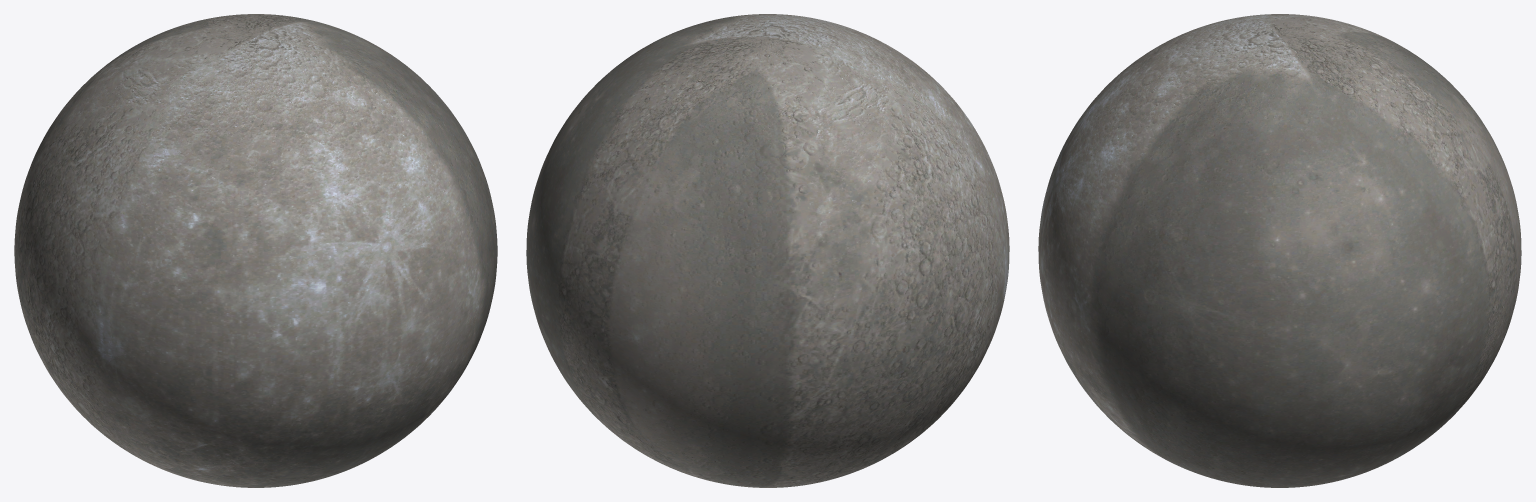
The model's file is mercury.gltf.
The picture shows the model from 3 angles, left to right: view 1: azimuth 30°, elevation 25°; view 2: azimuth 150°, elevation 25°; view 3: azimuth 270°, elevation 25°; orthographic projection.
Parts seen in each view (by area): view 1: node_id39; view 2: node_id39; view 3: node_id39.
Boxes of the visible parts, box(x1,y1,x2,y2) form: node_id39: box(14, 14, 497, 487); node_id39: box(526, 14, 1009, 487); node_id39: box(1038, 14, 1521, 487).
Bounding box in the file's own units: 0.3794 × 0.3707 × 0.3794.
1 material, 1 textured.
